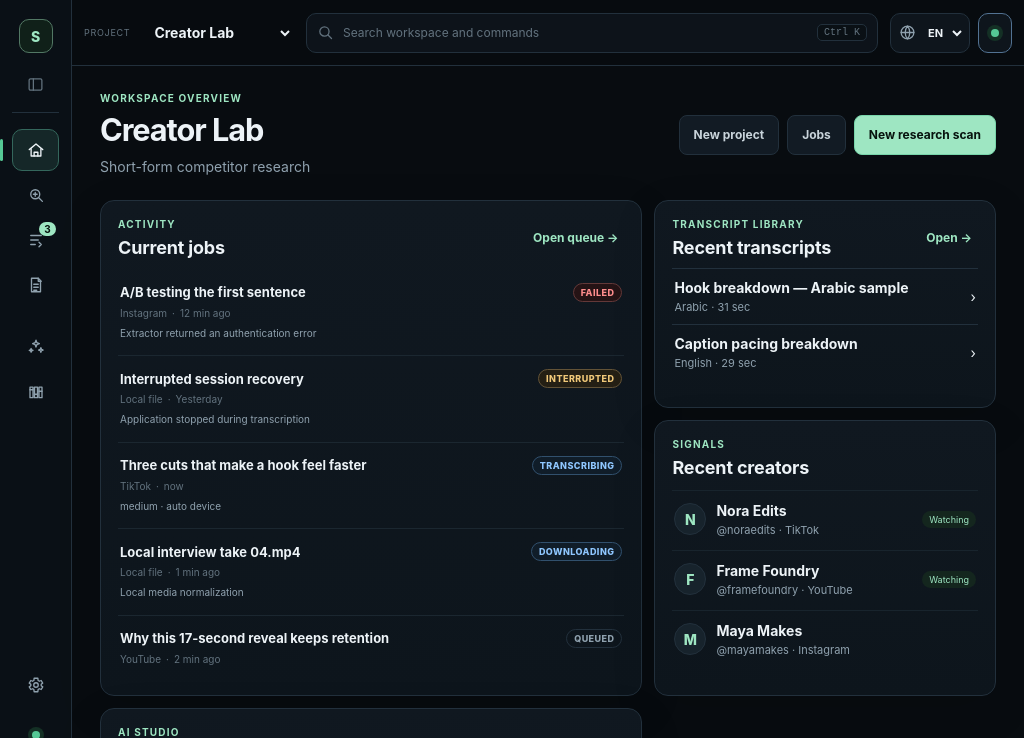
Test: desktop workstation › renders never-scanned, refreshing, healthy, failed, retry, and recovered watchlists
Expected: the heading "Creator Lab" is shown, [100, 111, 263, 148]
Click the button named "Research": coordinates (36, 195) [12, 174, 59, 216]
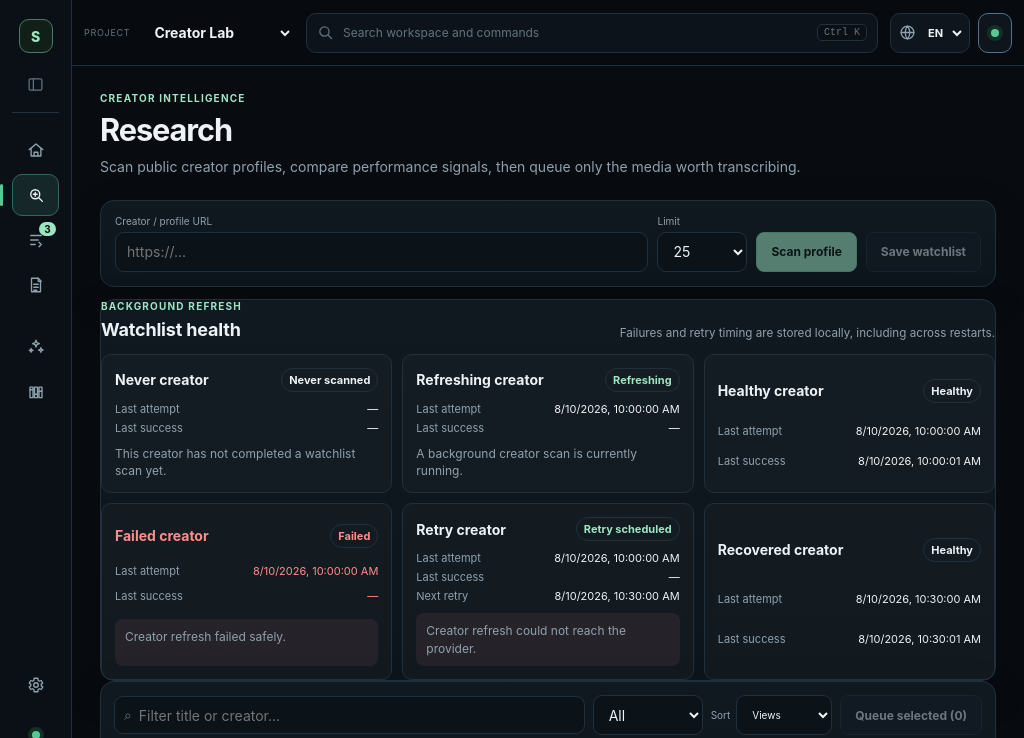
Result: the element with test id "watchlist-status-never" shows "Never scanned" at [289, 373, 370, 387]
Result: the element with test id "watchlist-status-refreshing" shows "Refreshing" at [613, 373, 672, 387]
Result: the element with test id "watchlist-status-healthy" shows "Healthy" at [931, 384, 973, 398]
